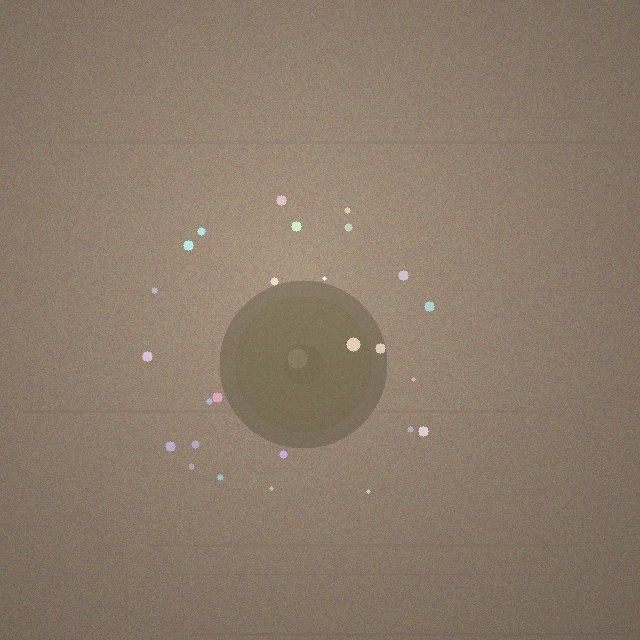overburn: (219, 280, 387, 448)
